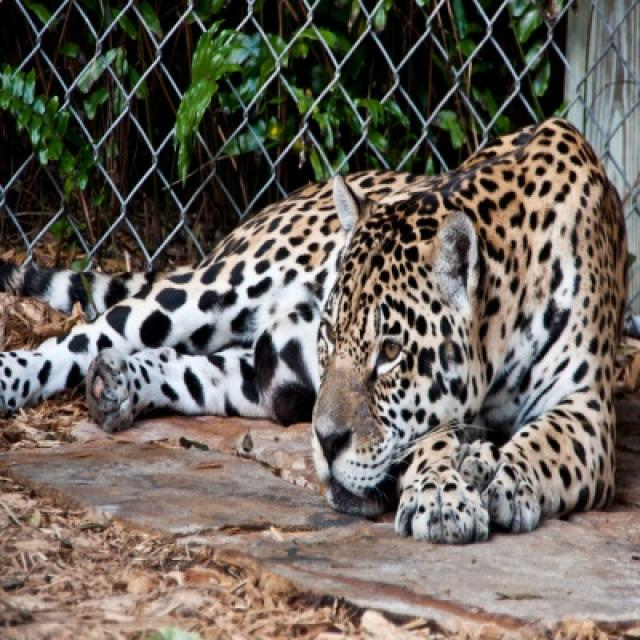Jaguar: (0, 118, 638, 547)
